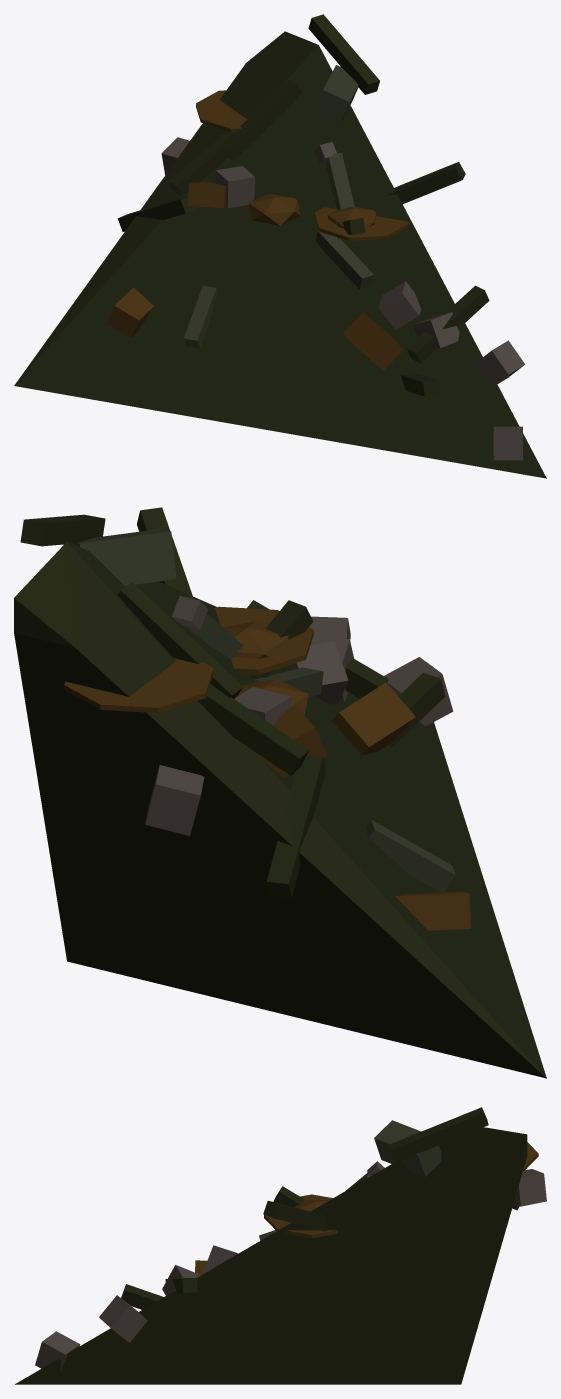
The model's file is SM_PilaZombi_RemateIzq_Altura5_s2_LOD1.fbx.
The picture shows the model from 3 angles, top to bottom: view 1: azimuth 30°, elevation 25°; view 2: azimuth 150°, elevation 25°; view 3: azimuth 270°, elevation 25°; orthographic projection. The views are drawn at different scales.
Parts seen in each view (by area): view 1: SM_pila_zombis_v14_LOD1; view 2: SM_pila_zombis_v14_LOD1; view 3: SM_pila_zombis_v14_LOD1.
Boxes of the visible parts, x1,y1,x2,y2 form: SM_pila_zombis_v14_LOD1: (14,14,546,478); SM_pila_zombis_v14_LOD1: (14,507,546,1078); SM_pila_zombis_v14_LOD1: (15,1107,546,1384).
Size of the model in its own units: 3.35 by 2.56 by 4.44.
